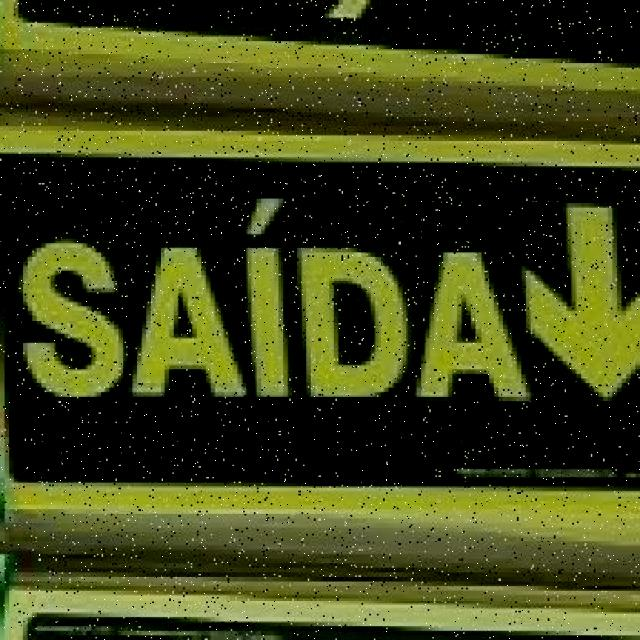emergency_exit: (1, 4, 639, 635), (2, 148, 639, 490)
